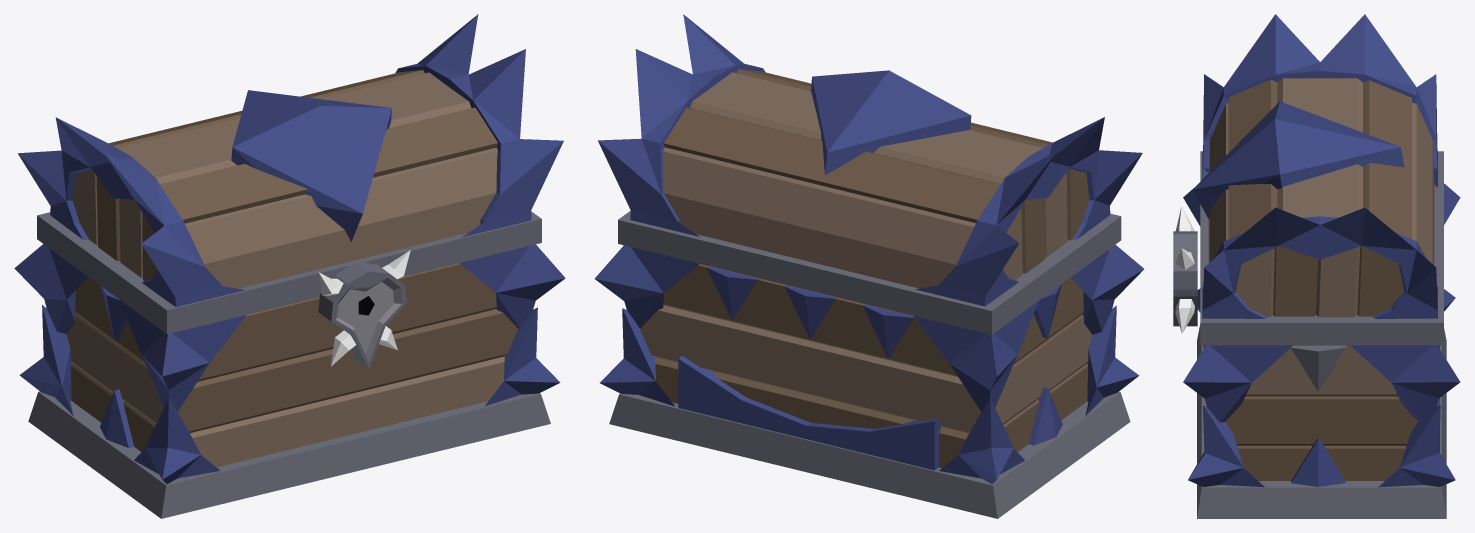
The model's file is _trunk_9.fbx.
The picture shows the model from 3 angles, left to right: view 1: azimuth 30°, elevation 25°; view 2: azimuth 150°, elevation 25°; view 3: azimuth 270°, elevation 25°; orthographic projection. The views are drawn at different scales.
Parts seen in each view (by area): view 1: trunk_9; view 2: trunk_9; view 3: trunk_9.
Part boxes in pixels (x1,y1,x2,y2): trunk_9: [14, 14, 565, 518]; trunk_9: [594, 14, 1143, 518]; trunk_9: [1173, 14, 1460, 518].
Bounding box in the file's own units: 107 × 82.45 × 67.21.
